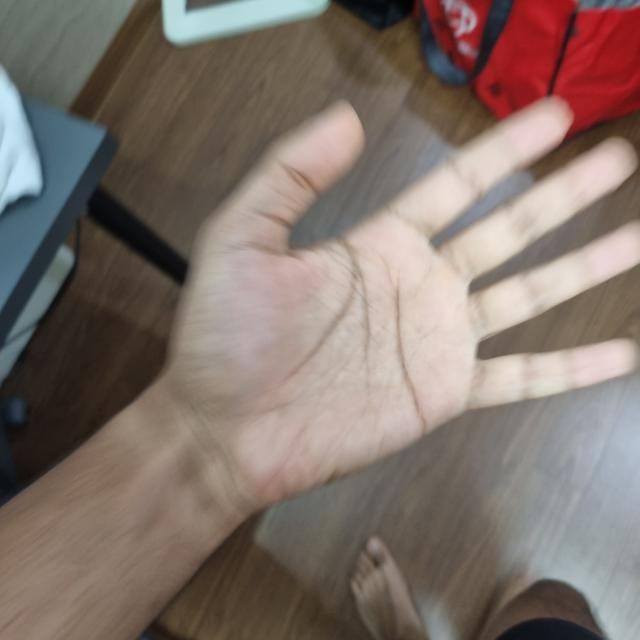Paper: (169, 113, 469, 499)
